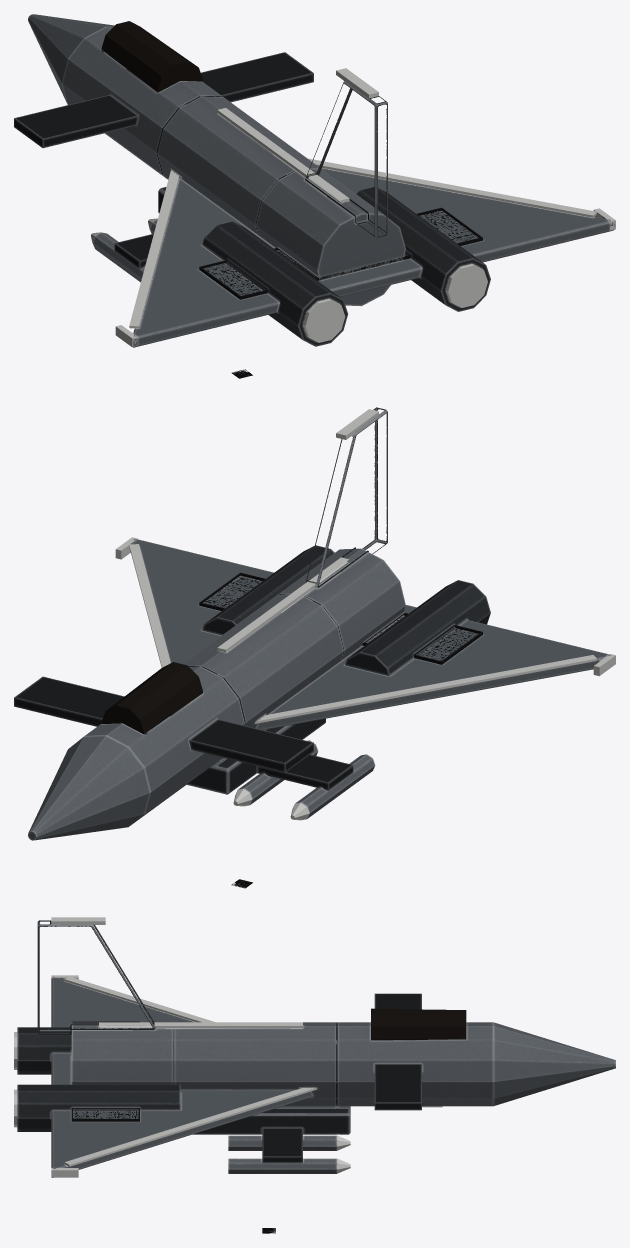
Rendered from chs_harpy.fbx.
3 views of the same model, one above another, from view 1: azimuth 30°, elevation 25°; view 2: azimuth 150°, elevation 25°; view 3: azimuth 270°, elevation 25° (orthographic). The views are drawn at different scales.
Parts seen in each view (by area): view 1: base_bar, base_glow_running_bar, pylon_bar; view 2: base_bar, base_glow_running_bar, pylon_bar; view 3: base_bar, pylon_bar, base_glow_running_bar.
Part boxes in pixels (x1=…): base_bar: x1=14, y1=14, x2=615, y2=347; base_glow_running_bar: x1=115, y1=68, x2=615, y2=347; pylon_bar: x1=92, y1=187, x2=166, y2=282; base_bar: x1=14, y1=407, x2=611, y2=840; base_glow_running_bar: x1=115, y1=409, x2=615, y2=723; pylon_bar: x1=187, y1=718, x2=375, y2=818; base_bar: x1=17, y1=920, x2=615, y2=1177; pylon_bar: x1=192, y1=1106, x2=350, y2=1173; base_glow_running_bar: x1=14, y1=917, x2=316, y2=1177.
Size of the model in its own units: 678 by 505 by 885.
Materials: 2 (2 with a texture image).
